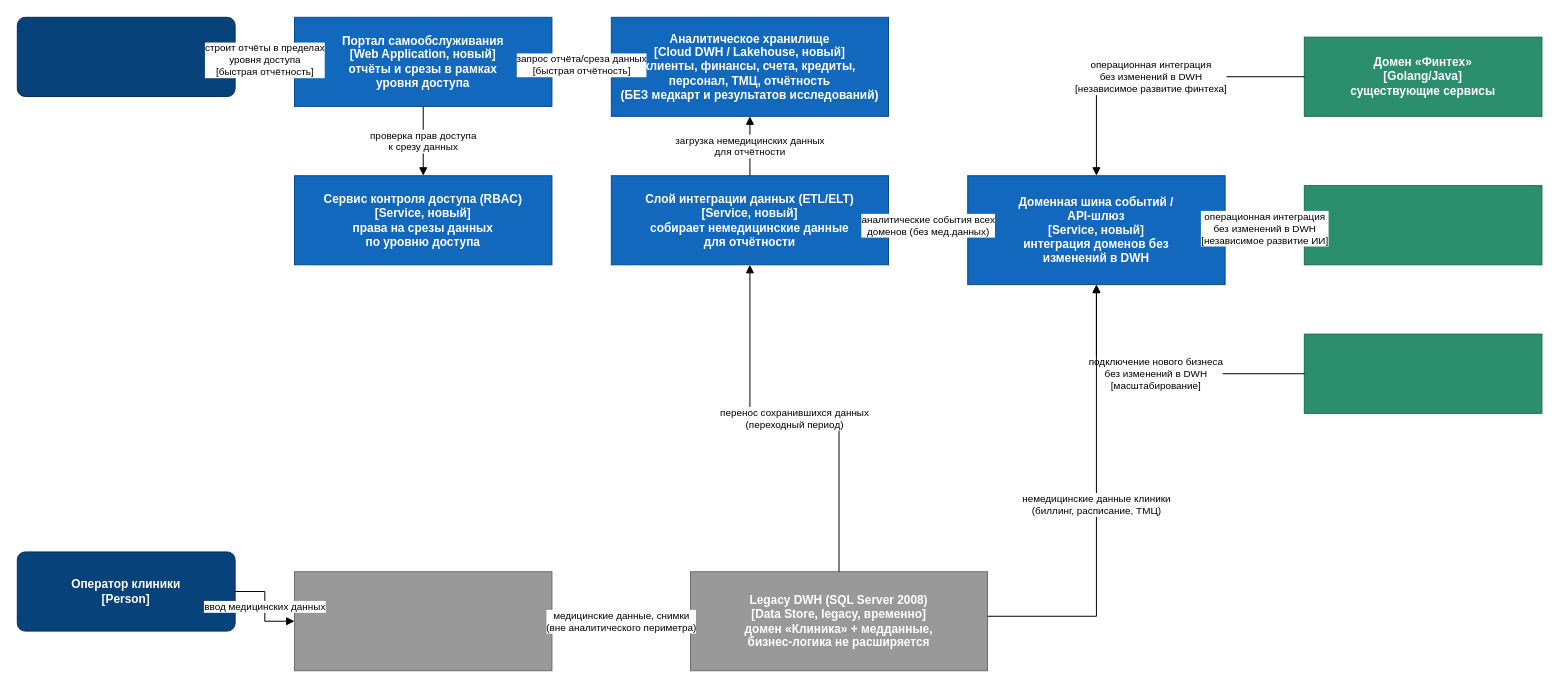
Some shapes in this 1559 by 688 pixel diagram are drawn without their labels. The shapes that lost their labels are listed below. From the top down, each one's centre as x and y in pixels, then its label:
point 125,56: Бизнес-пользователь [Person] сотрудник домена
point 1422,225: Домен «ИИ-сервисы» [Python] существующие сервисы
point 1422,373: Домен «Партнёры» (будущее) [планируется] фарма, электроника
point 423,621: Клиентский интерфейс оператора [PowerBuilder, legacy, временно]
